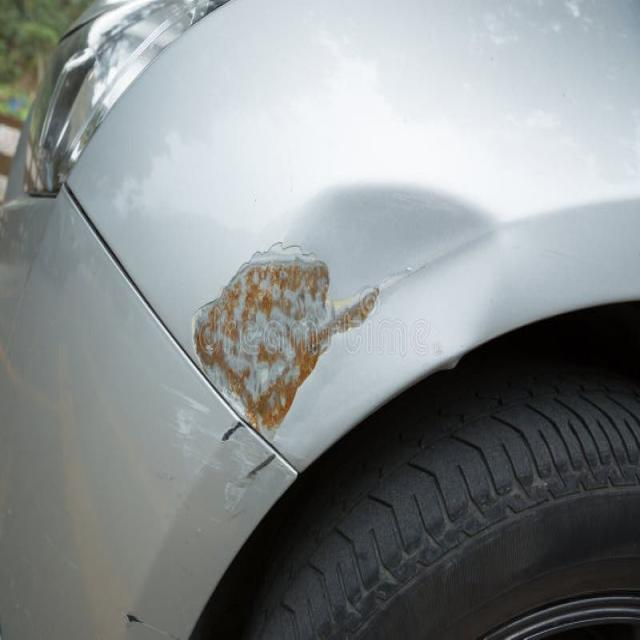dent: (296, 181, 498, 386)
scratch: (176, 238, 387, 521), (124, 609, 182, 640)
